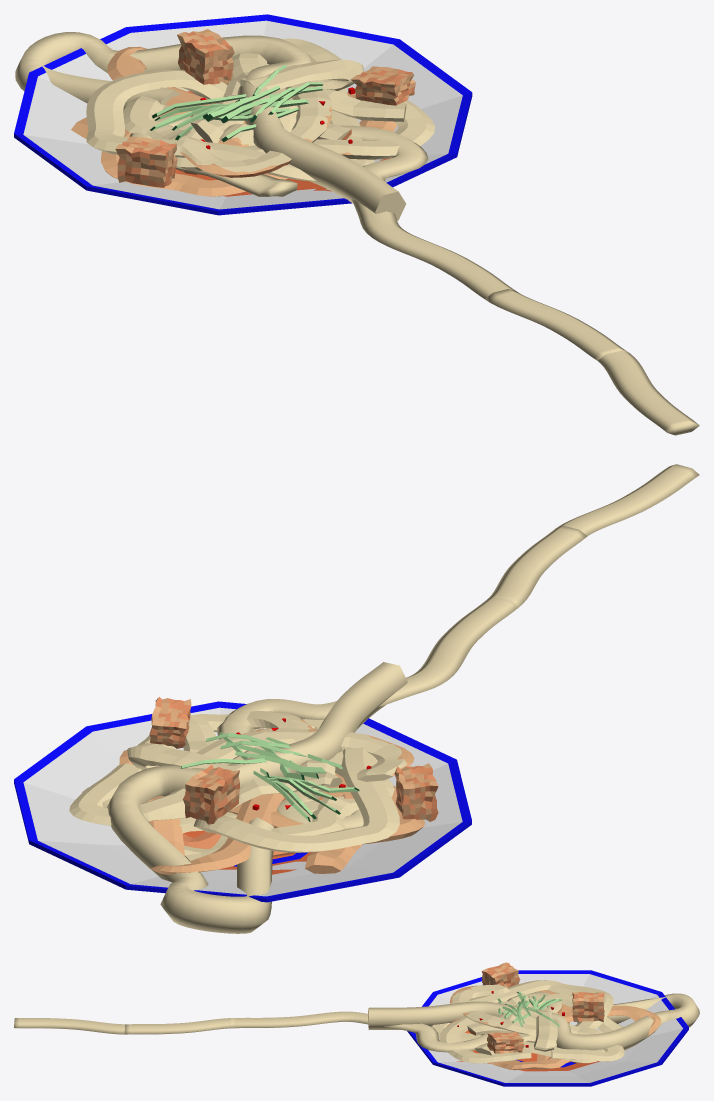
Rendered from Liangpi.fbx.
The picture shows the model from 3 angles, top to bottom: view 1: azimuth 30°, elevation 25°; view 2: azimuth 150°, elevation 25°; view 3: azimuth 270°, elevation 25°; orthographic projection. The views are drawn at different scales.
Visible parts, largest first — view 1: LiangPI, Sphere, BezierCurve.001, BezierCurve.008, BezierCurve, BezierCurve.003, BezierCurve.002, Cube.006, Cube.004, Cube.005; view 2: LiangPI, Sphere, BezierCurve.001, BezierCurve.008, BezierCurve, BezierCurve.003, BezierCurve.002, Cube.004, Cube.006, Cube.005; view 3: LiangPI, Sphere, BezierCurve.001, BezierCurve.008, BezierCurve.003, BezierCurve.002, Cube.004, BezierCurve, Cube.006, Cube.005.
Boxes of the visible parts, x1,y1,x2,y2 form: LiangPI: [71, 38, 434, 196]; Sphere: [14, 14, 472, 215]; BezierCurve.001: [15, 32, 406, 220]; BezierCurve.008: [129, 114, 516, 298]; BezierCurve: [150, 65, 323, 142]; BezierCurve.003: [598, 350, 699, 435]; BezierCurve.002: [485, 289, 628, 360]; Cube.006: [115, 136, 177, 187]; Cube.004: [177, 29, 234, 84]; Cube.005: [351, 66, 415, 105]; LiangPI: [69, 711, 424, 874]; Sphere: [14, 701, 471, 902]; BezierCurve.001: [106, 662, 407, 933]; BezierCurve.008: [217, 598, 517, 829]; BezierCurve: [181, 732, 359, 821]; BezierCurve.003: [556, 464, 699, 536]; BezierCurve.002: [487, 526, 587, 607]; Cube.004: [183, 764, 239, 824]; Cube.006: [394, 763, 438, 821]; Cube.005: [149, 697, 191, 748]; LiangPI: [430, 980, 661, 1070]; Sphere: [407, 970, 688, 1086]; BezierCurve.001: [368, 993, 699, 1050]; BezierCurve.008: [235, 991, 562, 1052]; BezierCurve.003: [14, 1018, 124, 1034]; BezierCurve.002: [125, 1018, 235, 1034]; Cube.004: [572, 992, 604, 1022]; BezierCurve: [497, 991, 562, 1026]; Cube.006: [481, 962, 520, 987]; Cube.005: [487, 1032, 524, 1053].
Size of the model in its own units: 719 by 153 by 1833.
